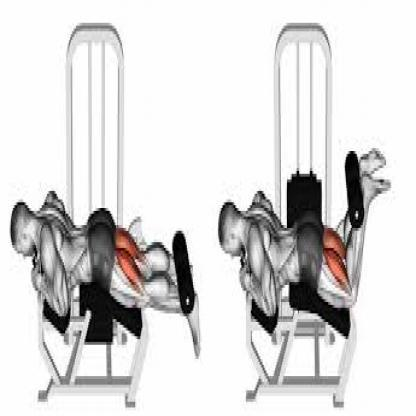reg curl machine: (6, 22, 206, 409), (217, 22, 393, 410)
